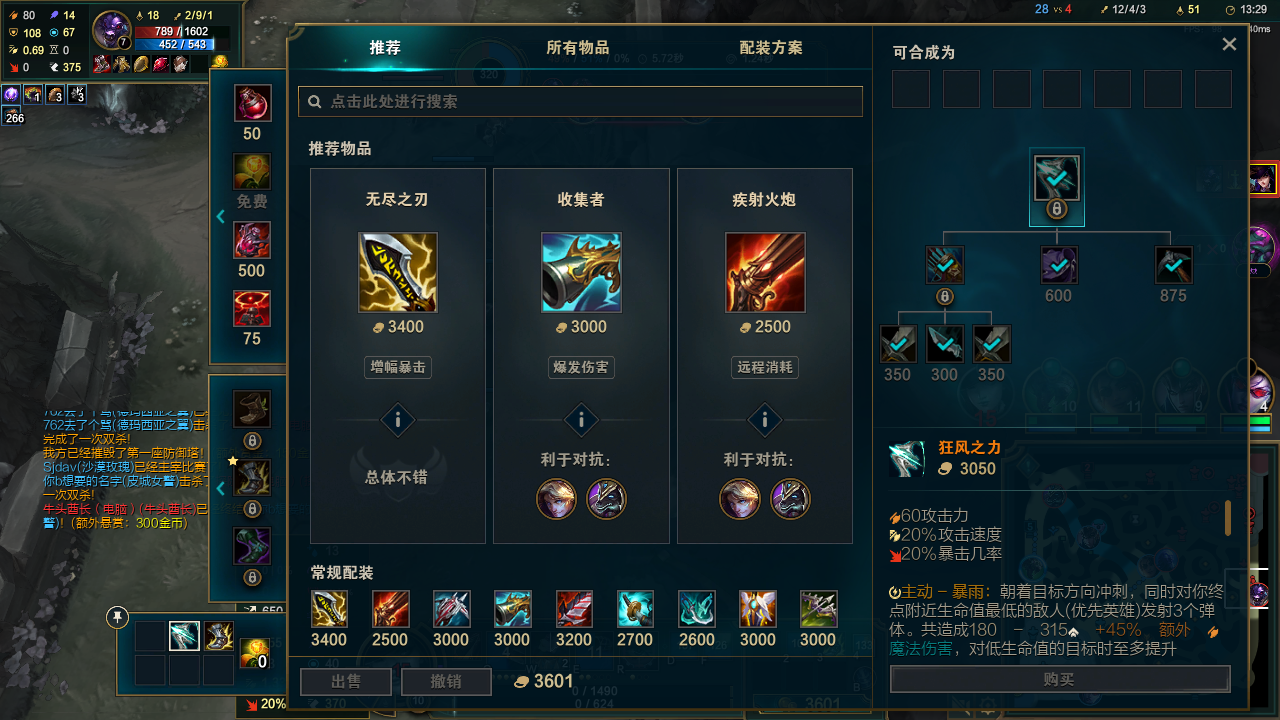GTH: (377, 394, 429, 437), (739, 401, 784, 436), (558, 405, 606, 435)
TJJM: (341, 40, 424, 82)
